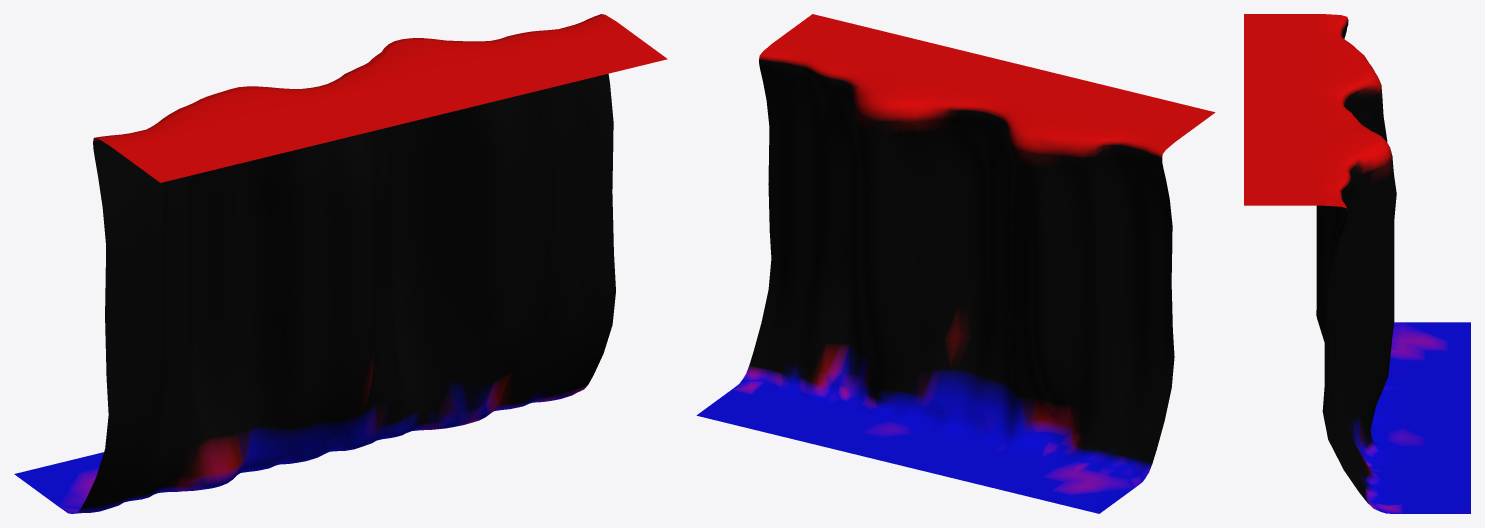
The model's file is GroundCliff02A 3M for Water Foreground.fbx.
The picture shows the model from 3 angles, left to right: view 1: azimuth 30°, elevation 25°; view 2: azimuth 150°, elevation 25°; view 3: azimuth 270°, elevation 25°; orthographic projection. The views are drawn at different scales.
Visible parts, largest first — view 1: GroundCliff02A 3M for Water Foreground; view 2: GroundCliff02A 3M for Water Foreground; view 3: GroundCliff02A 3M for Water Foreground.
Boxes of the visible parts, x1,y1,x2,y2 form: GroundCliff02A 3M for Water Foreground: (14, 14, 667, 513); GroundCliff02A 3M for Water Foreground: (696, 14, 1215, 513); GroundCliff02A 3M for Water Foreground: (1244, 14, 1470, 513).
Bounding box in the file's own units: 4 × 3 × 2.
